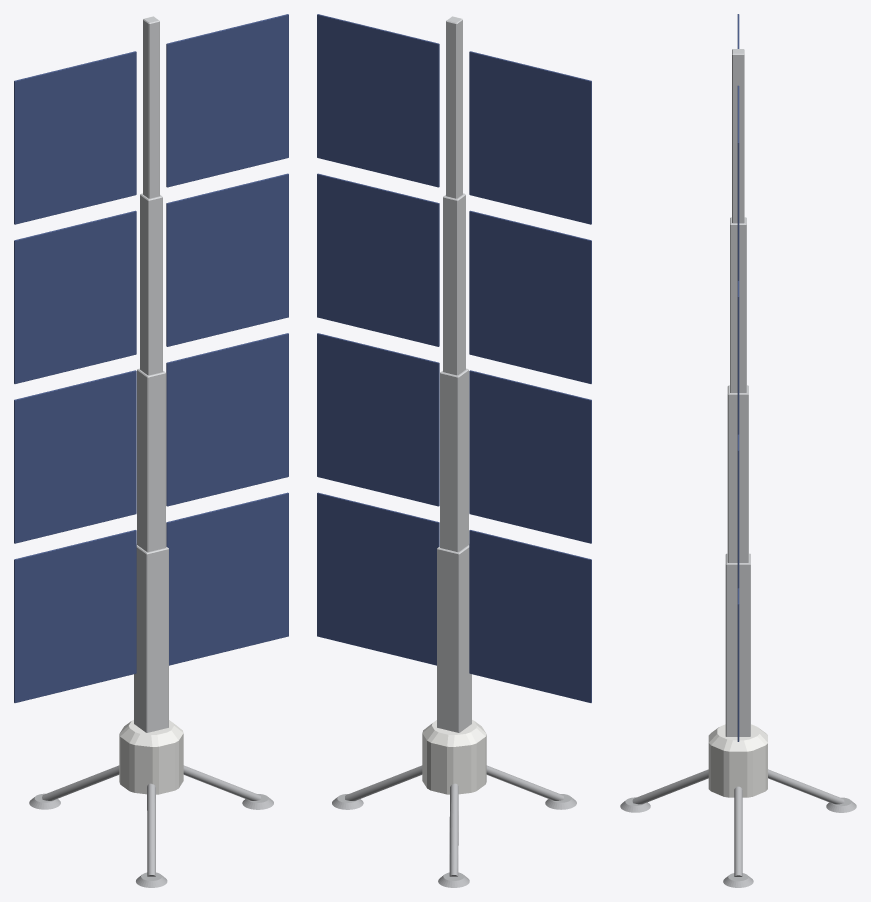
The model's file is ax_power_18_solar_tower_deployed.glb.
3 views of the same model, side by side, from view 1: azimuth 30°, elevation 25°; view 2: azimuth 150°, elevation 25°; view 3: azimuth 270°, elevation 25° (orthographic). The views are drawn at different scales.
Parts seen in each view (by area): view 1: panel_array_m, panel_array_p, mast, base, tripod_legs, footpads; view 2: panel_array_m, panel_array_p, mast, base, tripod_legs, footpads; view 3: mast, base, tripod_legs, panel_array_p, footpads.
Boxes of the visible parts, x1=… form: panel_array_m: x1=14, y1=51, x2=136, y2=702; panel_array_p: x1=166, y1=14, x2=288, y2=665; mast: x1=134, y1=16, x2=168, y2=732; base: x1=119, y1=720, x2=183, y2=794; tripod_legs: x1=42, y1=765, x2=260, y2=876; footpads: x1=29, y1=793, x2=273, y2=887; panel_array_m: x1=469, y1=51, x2=591, y2=702; panel_array_p: x1=317, y1=14, x2=439, y2=665; mast: x1=437, y1=16, x2=471, y2=732; base: x1=422, y1=720, x2=486, y2=794; tripod_legs: x1=345, y1=765, x2=563, y2=876; footpads: x1=332, y1=794, x2=576, y2=887; mast: x1=725, y1=49, x2=750, y2=736; base: x1=708, y1=724, x2=767, y2=797; tripod_legs: x1=632, y1=769, x2=844, y2=876; panel_array_p: x1=737, y1=85, x2=739, y2=741; footpads: x1=620, y1=797, x2=856, y2=887.
Bounding box in the file's own units: 3.6 × 10.15 × 2.79.
